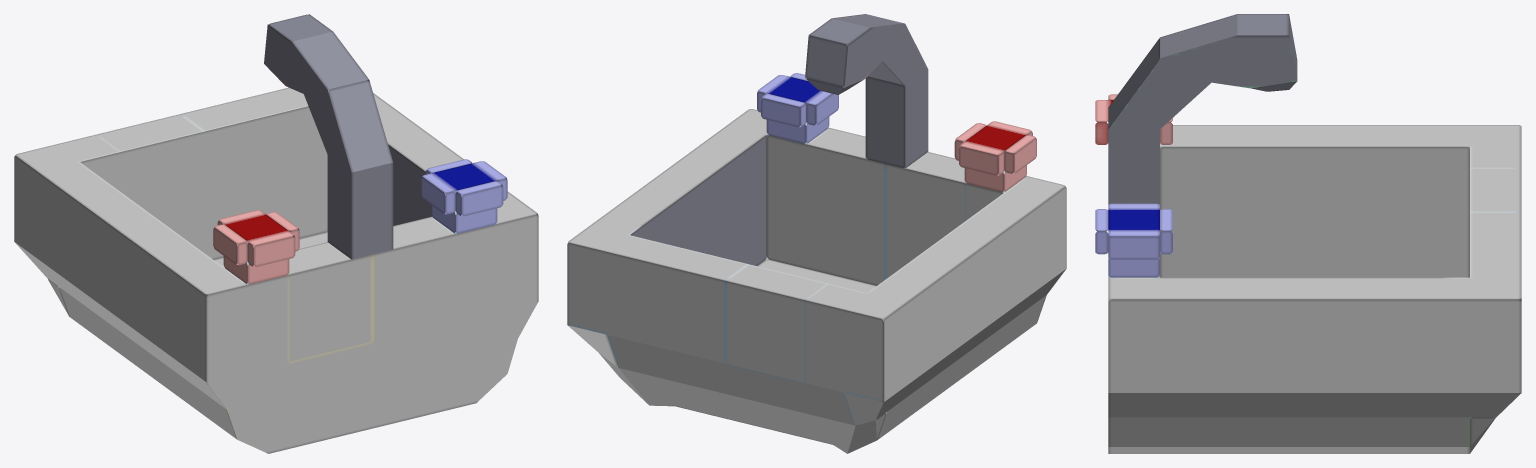
Rendered from Sink.fbx.
3 renders of one model, left to right at view 1: azimuth 30°, elevation 25°; view 2: azimuth 150°, elevation 25°; view 3: azimuth 270°, elevation 25°, orthographic. The views are drawn at different scales.
Parts seen in each view (by area): view 1: mesh_3, mesh, mesh_2, mesh_1; view 2: mesh_3, mesh, mesh_1, mesh_2; view 3: mesh_3, mesh, mesh_2, mesh_1.
Boxes of the visible parts, box(x1,y1,x2,y2) form: mesh_3: box(14, 87, 538, 453); mesh: box(264, 14, 393, 259); mesh_2: box(421, 159, 507, 233); mesh_1: box(213, 210, 299, 284); mesh_3: box(567, 109, 1066, 453); mesh: box(805, 14, 928, 168); mesh_1: box(954, 121, 1036, 192); mesh_2: box(757, 73, 838, 143); mesh_3: box(1108, 125, 1521, 453); mesh: box(1108, 14, 1297, 204); mesh_2: box(1095, 203, 1172, 277); mesh_1: box(1095, 94, 1172, 144).
Size of the model in its own units: 100 by 100 by 103.
Materials: 1 (1 with a texture image).
